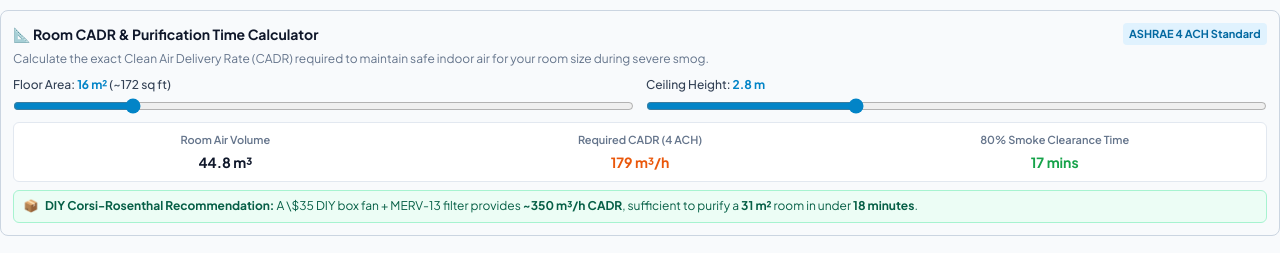
Scientific & Accessible Components Suite › CadrCalculator (Indoor CADR & Clearance Kinetics) › renders room volume, required CADR, and estimates purification time
The width and height of the screenshot is (1280, 253).
Expected: the heading "📐 Room CADR & Purification Time Calculator" is shown, [13,23,318,45]
Expected: the text "Floor Area: 16 m² (~172 sq ft)" is shown, [13,77,171,92]
// Test sliding room area
Set the slider labelled "Floor Area: 16 m² (~172 sq ft)" to "25": {"x": 234, "y": 106} [13,98,634,114]
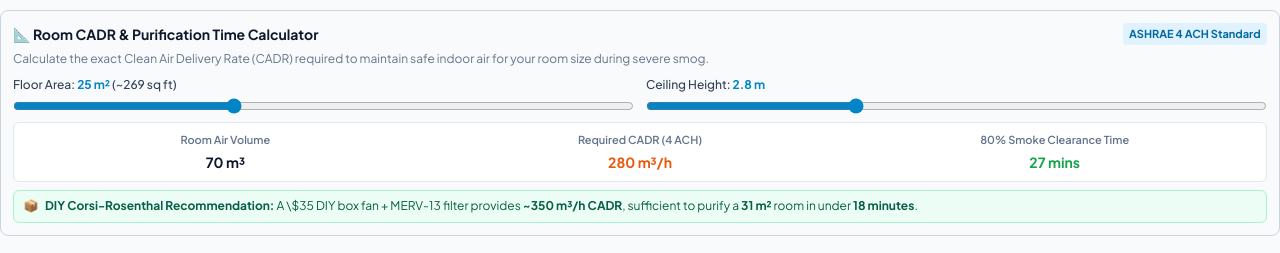
Result: the text "25 m²" is shown at [77,77,110,92]
